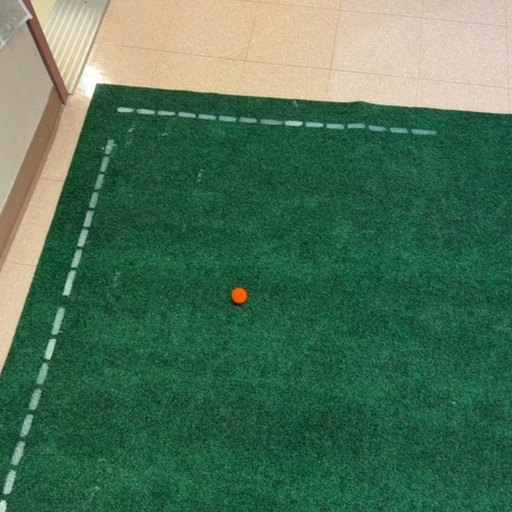Ball: (231, 287, 247, 303)
